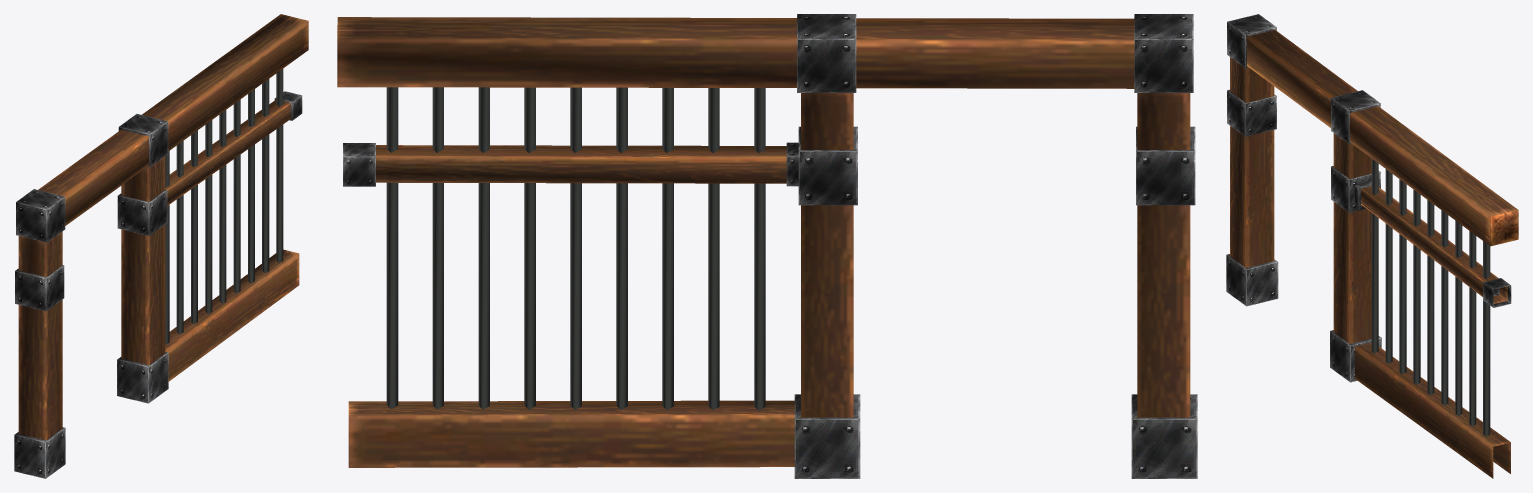
Rendered from SWORDLIGHT20_JAILCELLBARS03.fbx.
3 renders of one model, left to right at view 1: azimuth 30°, elevation 25°; view 2: azimuth 150°, elevation 25°; view 3: azimuth 270°, elevation 25°, orthographic. The views are drawn at different scales.
Visible parts, largest first — view 1: SWORDLIGHT20_JAILCELLBARS03; view 2: SWORDLIGHT20_JAILCELLBARS03; view 3: SWORDLIGHT20_JAILCELLBARS03.
Part boxes in pixels (<box>): SWORDLIGHT20_JAILCELLBARS03: <box>14,14,308,478</box>; SWORDLIGHT20_JAILCELLBARS03: <box>337,14,1197,478</box>; SWORDLIGHT20_JAILCELLBARS03: <box>1226,14,1518,478</box>.
Bounding box in the file's own units: 58796 × 36791 × 36006.
3 materials, 3 textured.
